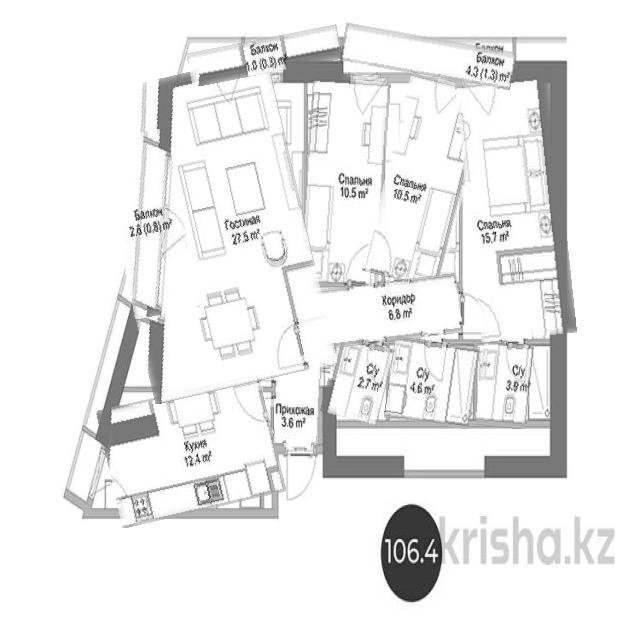balcony: (340, 30, 515, 83), (187, 31, 342, 80), (132, 131, 168, 316)
bathroom: (387, 338, 477, 427), (325, 339, 391, 423), (477, 341, 532, 428)
hallway: (272, 278, 462, 349), (275, 345, 322, 449)
kitchen: (102, 381, 280, 520)
living_room: (155, 54, 314, 404), (461, 70, 571, 340), (374, 75, 477, 287), (303, 73, 388, 286)
